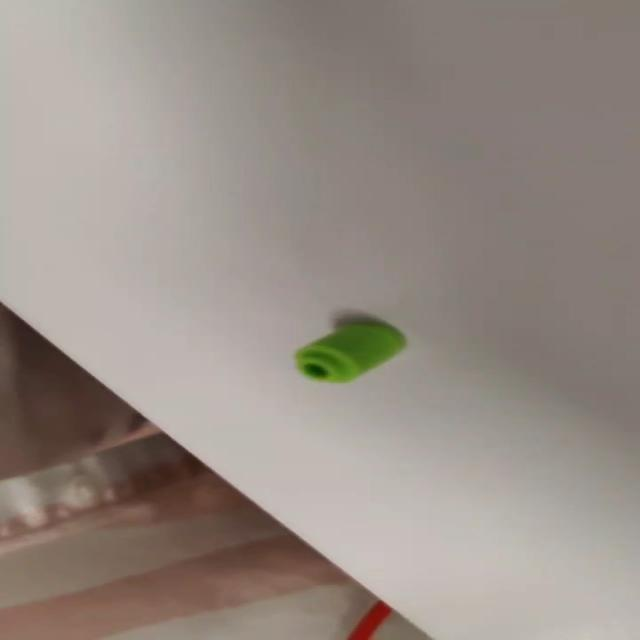S1x1x1: (291, 317, 411, 387)
